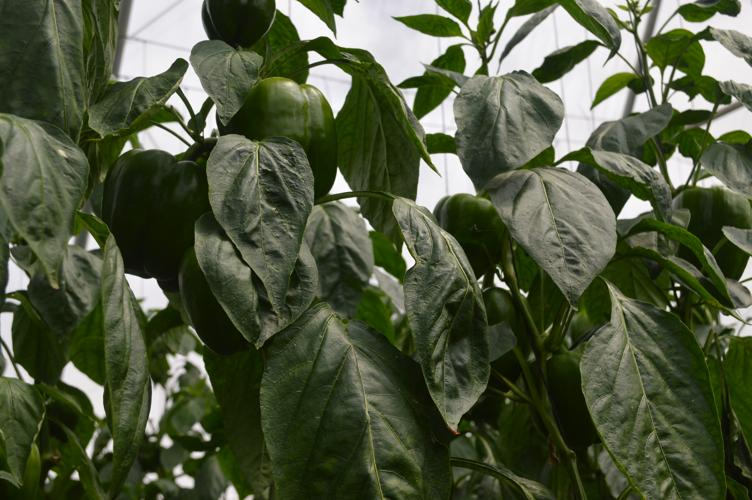BellPepper: (221, 75, 335, 199), (102, 147, 206, 279), (673, 186, 748, 285), (177, 251, 243, 355), (466, 289, 528, 388), (433, 193, 505, 278), (549, 349, 598, 447)
